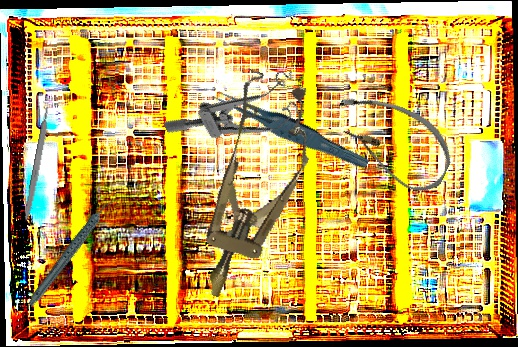Cannula: (319, 82, 464, 201)
Handpiece: (10, 199, 133, 308)
Scalpel Handle: (22, 106, 53, 224)
Speculum: (171, 67, 331, 311), (162, 58, 314, 177)
Tissue Forceps: (208, 76, 371, 181)
